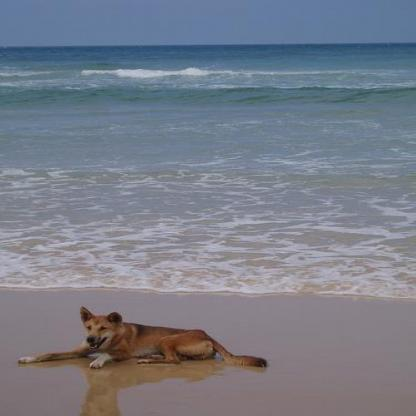dingo: (16, 304, 268, 369)
